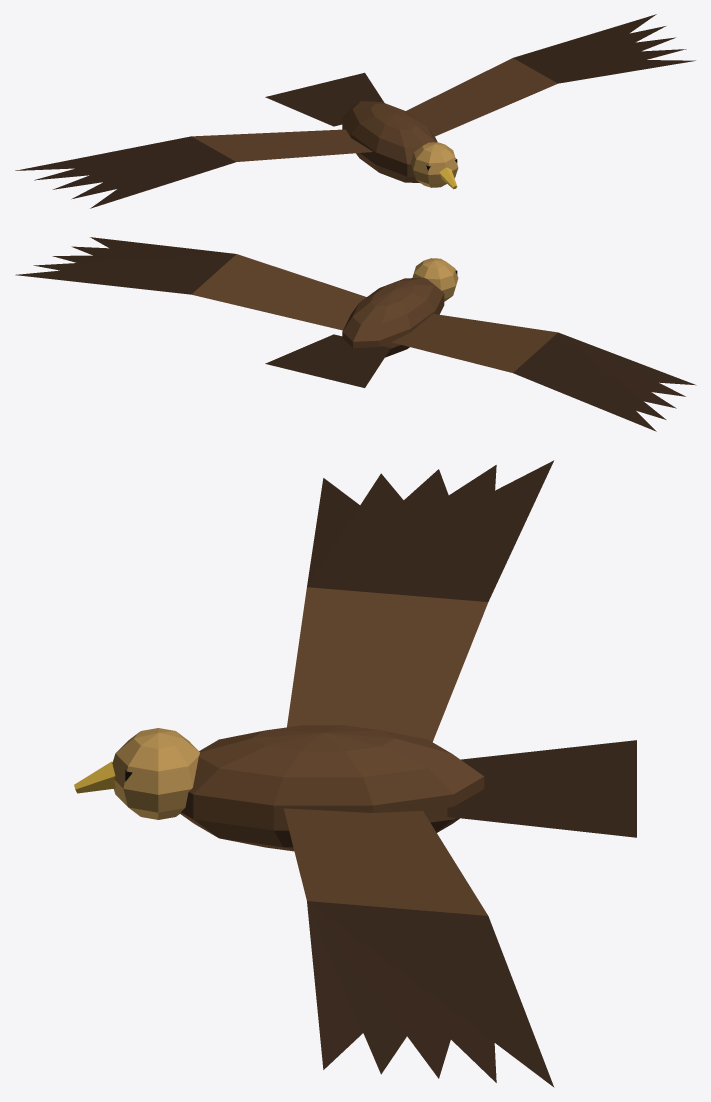
The model's file is Eagle_Flying.obj.
3 renders of one model, top to bottom at view 1: azimuth 30°, elevation 25°; view 2: azimuth 150°, elevation 25°; view 3: azimuth 270°, elevation 25°, orthographic. The views are drawn at different scales.
Visible parts, largest first — view 1: Eagle_Flying; view 2: Eagle_Flying; view 3: Eagle_Flying.
Part boxes in pixels (x1=…): Eagle_Flying: x1=15, y1=14, x2=695, y2=208; Eagle_Flying: x1=15, y1=237, x2=696, y2=431; Eagle_Flying: x1=74, y1=460, x2=636, y2=1087.
Bounding box in the file's own units: 1.8 × 0.15 × 0.6822.
